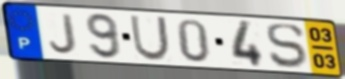0: (174, 18, 213, 64)
4: (229, 18, 266, 69)
9: (84, 11, 122, 61)
J: (48, 12, 79, 56)
S: (264, 22, 307, 70)
U: (128, 15, 172, 63)
